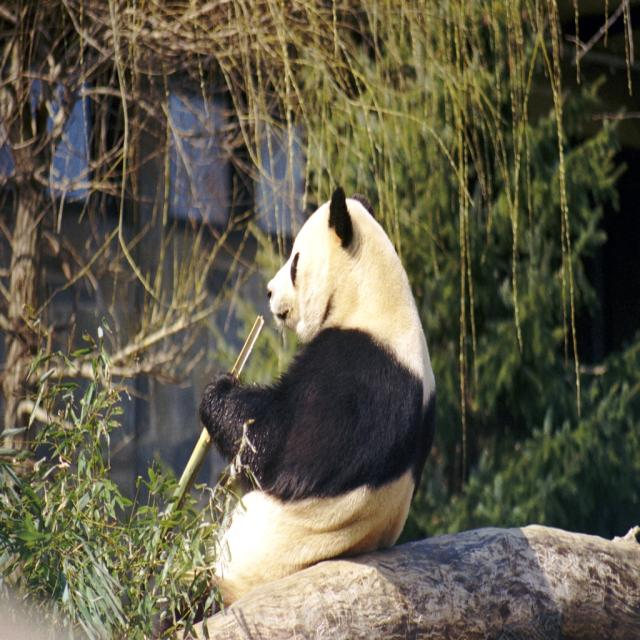panda: (155, 183, 437, 639)
